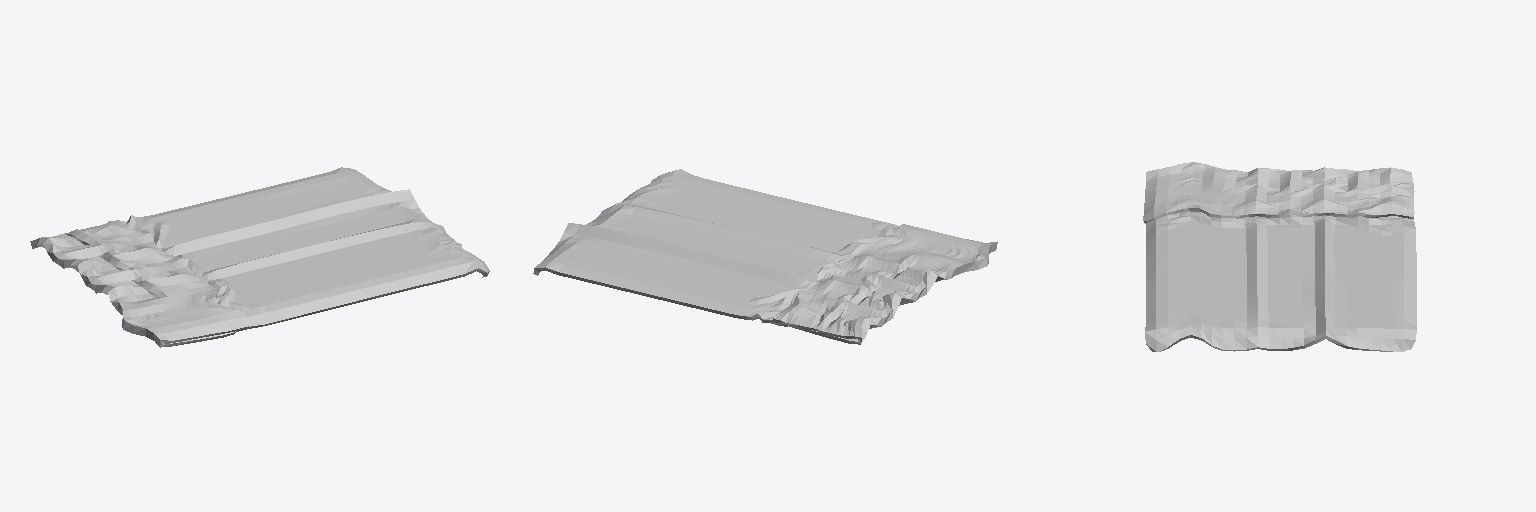
File: blanket.obj
3 views of the same model, side by side, from view 1: azimuth 30°, elevation 25°; view 2: azimuth 150°, elevation 25°; view 3: azimuth 270°, elevation 25° (orthographic).
Parts seen in each view (by area): view 1: Plane.003; view 2: Plane.003; view 3: Plane.003.
Part boxes in pixels (bbox=[...]): Plane.003: bbox=[30, 167, 489, 347]; Plane.003: bbox=[533, 169, 997, 344]; Plane.003: bbox=[1143, 162, 1416, 351].
Bounding box in the file's own units: 5.26 × 0.4391 × 3.53.